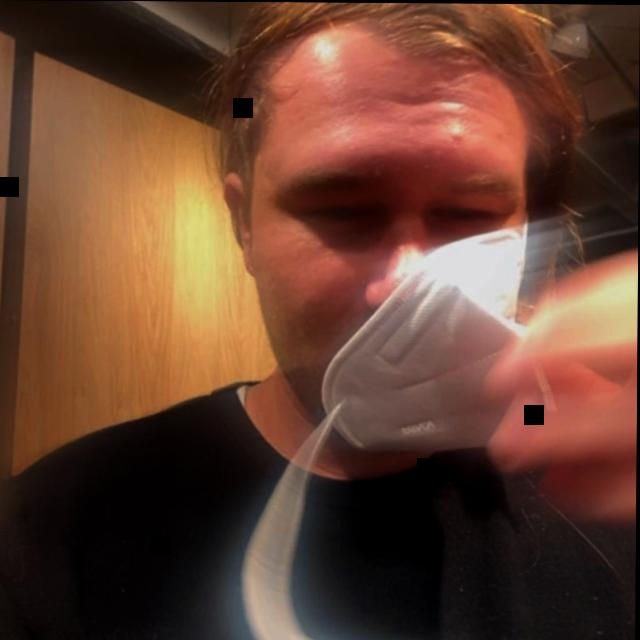NO-Mask: (193, 1, 560, 472)
